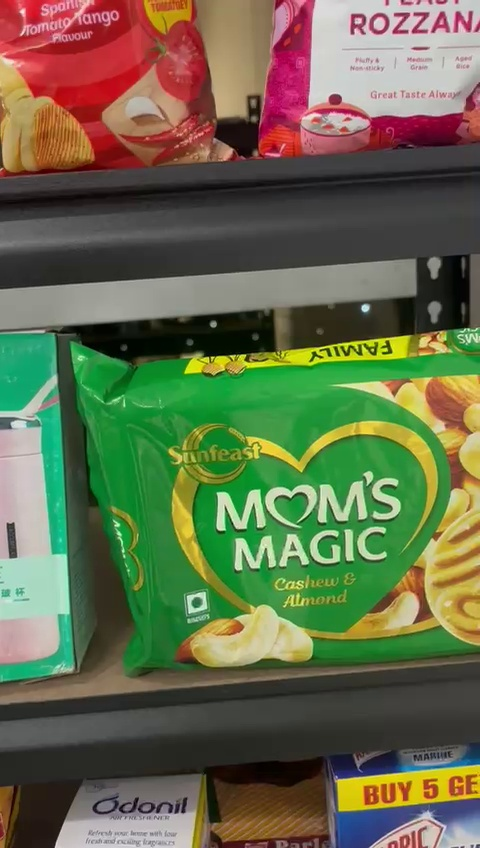Moms magic: (89, 355, 480, 670)
